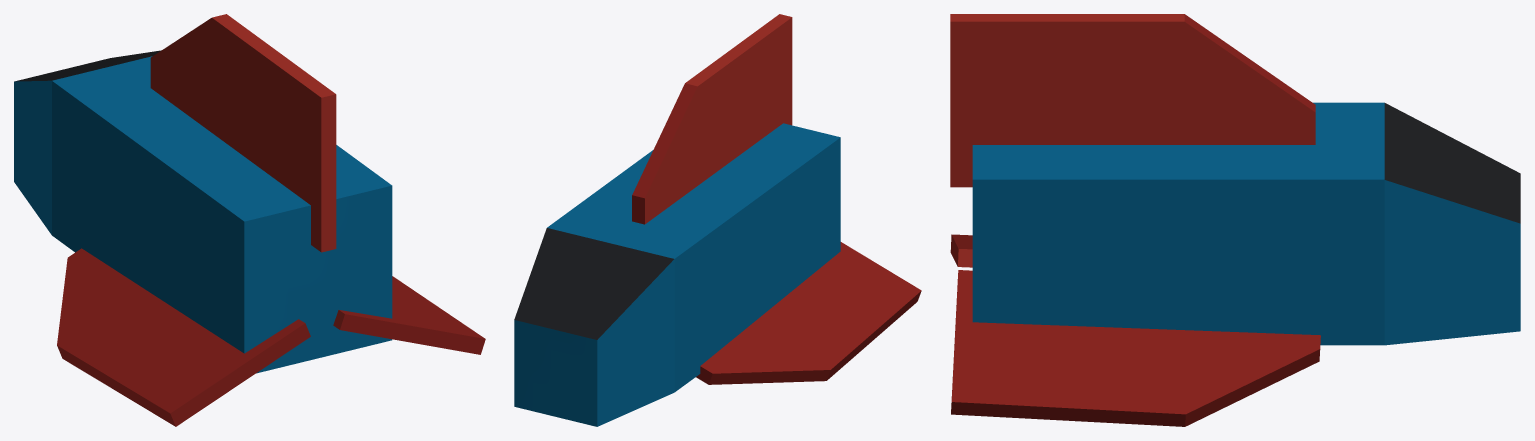
File: enemy.glb
The picture shows the model from 3 angles, left to right: view 1: azimuth 30°, elevation 25°; view 2: azimuth 150°, elevation 25°; view 3: azimuth 270°, elevation 25°; orthographic projection. The views are drawn at different scales.
Parts seen in each view (by area): view 1: EnemyShip; view 2: EnemyShip; view 3: EnemyShip.
Boxes of the visible parts, x1,y1,x2,y2 form: EnemyShip: (14, 14, 485, 426); EnemyShip: (514, 14, 921, 426); EnemyShip: (950, 14, 1520, 426).
Bounding box in the file's own units: 2.19 × 1.98 × 3.12.
Materials: 1 (1 with a texture image).
